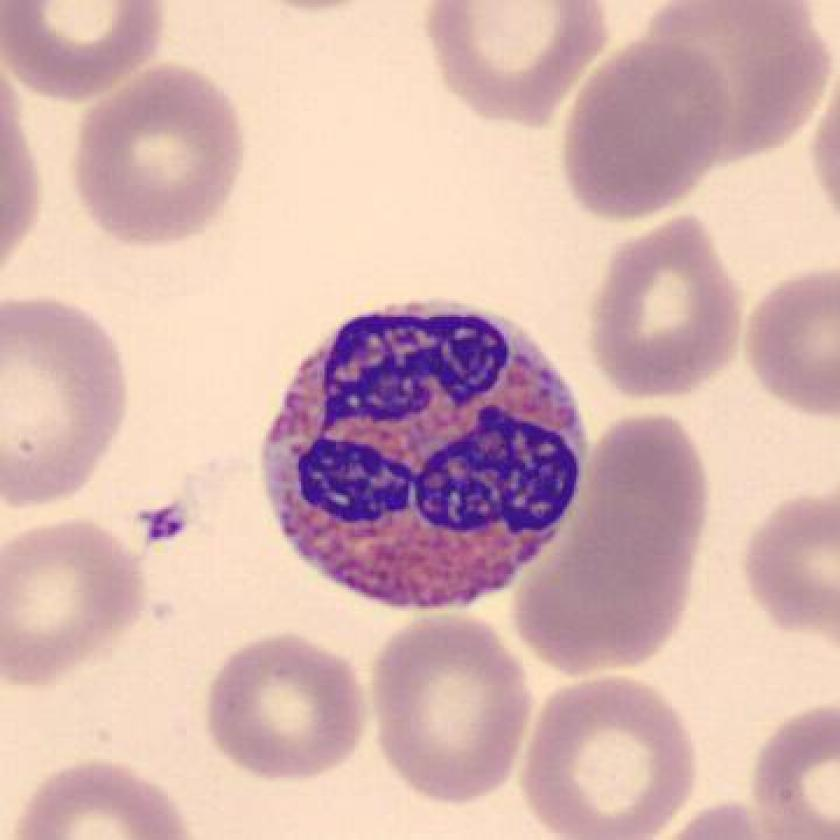eosinophil: (249, 288, 599, 621)
